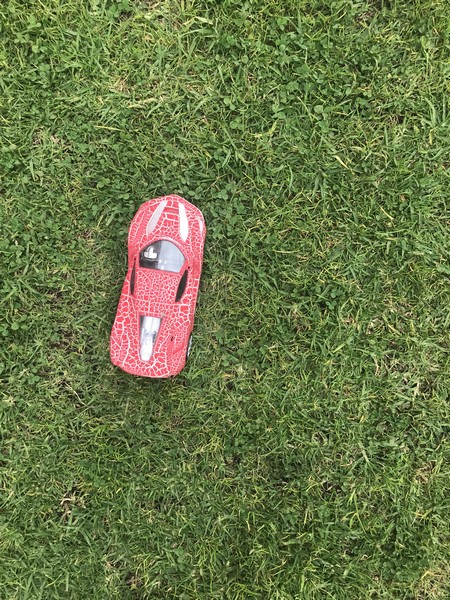RC: (107, 193, 208, 381)
